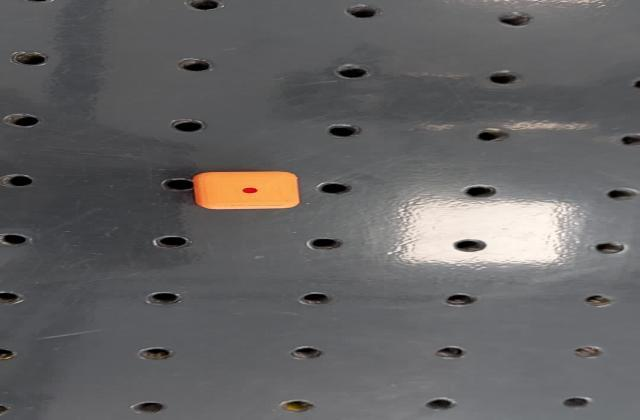cube: (187, 170, 306, 212)
